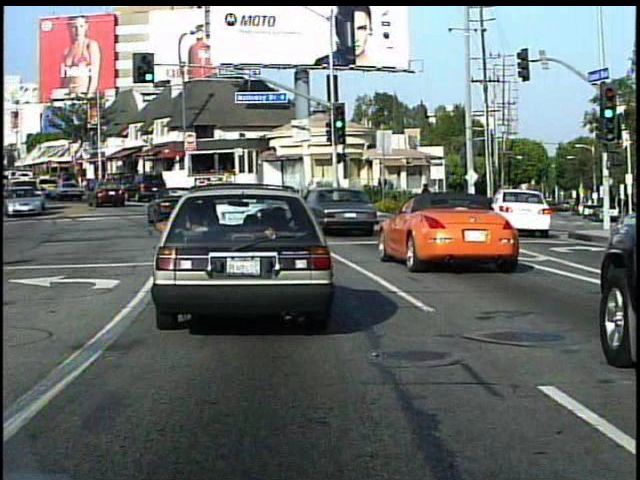person: (418, 181, 435, 220)
